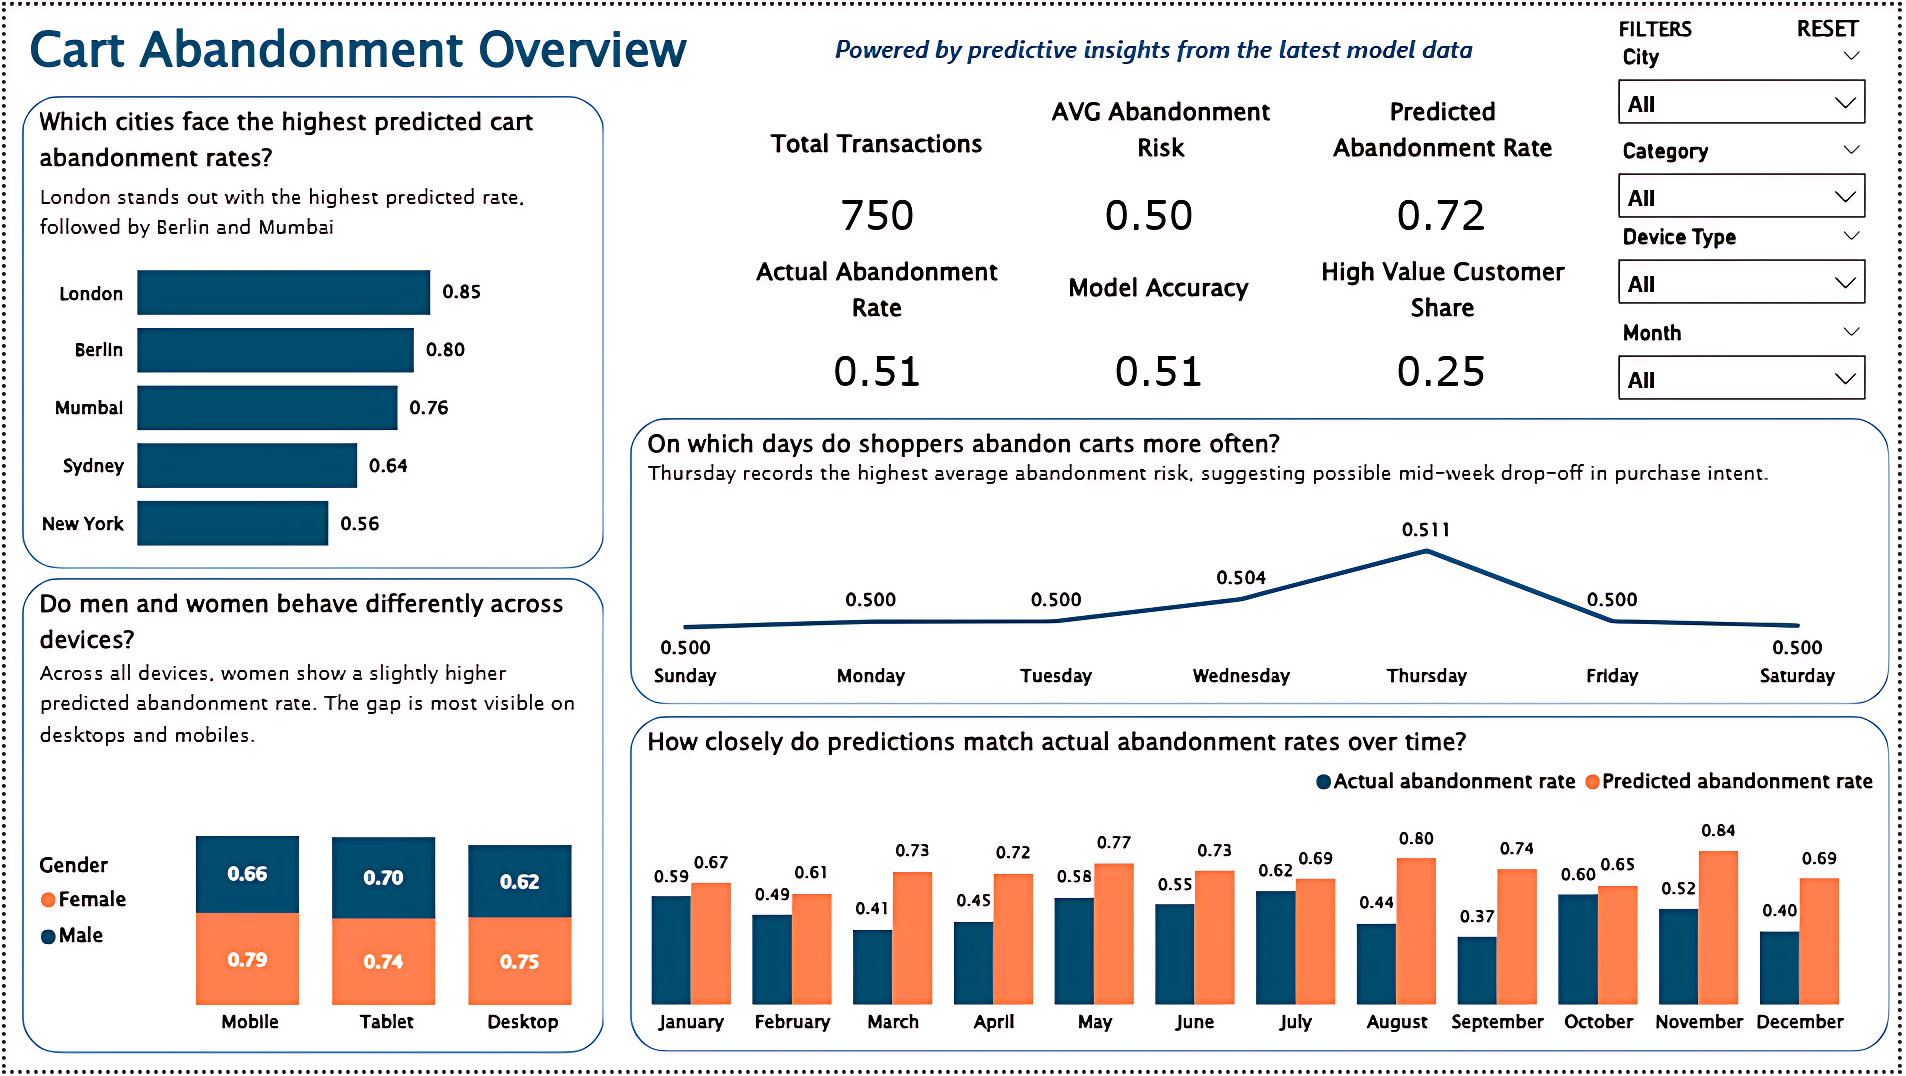

The dashboard page shown, as its layout file describes it:
{"tool":"powerbi","page":{"name":"EXECUTIVE SUMMARY","canvas":[1280,720],"ordinal":0},"visuals":[{"type":"shape","box":[421.6,480.8,852.3,227.5],"z":0},{"type":"shape","box":[421.6,279.1,852.3,194.1],"z":1000},{"type":"shape","box":[10.6,386.7,394.3,321.5],"z":2000},{"type":"shape","box":[10.6,60.7,394.3,320],"z":3000},{"type":"textbox","box":[10.6,0,471.7,60.7],"z":4000},{"type":"PBI_CV_7B952816_A48F_49B4_9E13_15E3BB2C0337","fields":{"Values":["_Measures.total_transactions"]},"box":[536.9,121.3,104.6,40.9],"z":5000},{"type":"PBI_CV_7B952816_A48F_49B4_9E13_15E3BB2C0337","fields":{"Values":["_Measures.avg_abandonment_risk"]},"box":[709.8,121.3,128.9,40.9],"z":6000},{"type":"PBI_CV_7B952816_A48F_49B4_9E13_15E3BB2C0337","fields":{"Values":["_Measures.predicted_abandonment_rate"]},"box":[906.9,122.8,128.9,37.9],"z":7000},{"type":"PBI_CV_7B952816_A48F_49B4_9E13_15E3BB2C0337","fields":{"Values":["_Measures.actual_abandonment_rate"]},"box":[529.3,227.5,121.3,40.9],"z":8000},{"type":"PBI_CV_7B952816_A48F_49B4_9E13_15E3BB2C0337","fields":{"Values":["_Measures.model_accuracy"]},"box":[715.8,227.5,128.9,40.9],"z":9000},{"type":"PBI_CV_7B952816_A48F_49B4_9E13_15E3BB2C0337","fields":{"Values":["_Measures.high_value_customer_share"]},"box":[906.9,227.5,128.9,40.9],"z":10000},{"type":"textbox","box":[494.4,75.8,191.1,45.5],"z":11000},{"type":"textbox","box":[685.5,54.6,191.1,66.7],"z":12000},{"type":"textbox","box":[876.6,54.6,191.1,66.7],"z":13000},{"type":"textbox","box":[494.4,162.3,191.1,65.2],"z":14000},{"type":"textbox","box":[696.1,172.9,168.3,44],"z":15000},{"type":"textbox","box":[876.6,162.3,191.1,66.7],"z":16000},{"type":"slicer","fields":{"Values":["model_predictions.city"]},"box":[1081.3,21.2,186.5,66.7],"z":17000},{"type":"slicer","fields":{"Values":["model_predictions.category"]},"box":[1081.3,84.9,186.5,71.3],"z":18000},{"type":"slicer","fields":{"Values":["model_predictions.device_type"]},"box":[1081.3,144.1,186.5,71.3],"z":19000},{"type":"textbox","box":[1081.3,0,69.8,33.4],"z":20000},{"type":"actionButton","box":[1199.6,0,68.2,30.3],"z":21000},{"type":"clusteredBarChart","fields":{"Y":["_Measures.predicted_abandonment_rate"],"Category":["model_predictions.city"]},"box":[18.2,150.1,377.6,236.6],"z":23000},{"type":"columnChart","fields":{"Series":["model_predictions.gender"],"Category":["model_predictions.device_type"],"Y":["_Measures.predicted_abandonment_rate"]},"box":[18.2,505,411,203.2],"z":24000},{"type":"lineChart","fields":{"Y":["_Measures.avg_abandonment_risk"],"Category":["model_predictions.day_of_week_name"]},"box":[404.9,333.6,862.9,139.5],"z":25000},{"type":"clusteredColumnChart","fields":{"Y":["_Measures.actual_abandonment_rate","_Measures.predicted_abandonment_rate"],"Category":["model_predictions.month_name"]},"box":[404.9,505,869,203.2],"z":26000},{"type":"textbox","box":[18.2,60.7,377.6,71.3],"z":27000},{"type":"textbox","box":[18.2,113.7,377.6,59.1],"z":28000},{"type":"textbox","box":[18.2,386.7,377.6,60.7],"z":29000},{"type":"textbox","box":[18.2,435.3,377.6,74.3],"z":30000},{"type":"textbox","box":[429.2,279.1,838.7,37.9],"z":31000},{"type":"textbox","box":[429.2,300.3,805.3,33.4],"z":32000},{"type":"textbox","box":[429.2,480.8,838.7,48.5],"z":32001},{"type":"slicer","fields":{"Values":["model_predictions.month_name"]},"box":[1081.3,207.8,186.5,71.3],"z":32002},{"type":"textbox","box":[518.7,13.6,517.2,47],"z":32003}]}

Visuals, with their boxes in screenshot pixels (x1, y1, x2, y2), scaled from the page's 1280x720 canvas onto the 1906x1076 screenshot:
shape: [x1=628, y1=719, x2=1897, y2=1059]
shape: [x1=628, y1=417, x2=1897, y2=707]
shape: [x1=16, y1=578, x2=603, y2=1058]
shape: [x1=16, y1=91, x2=603, y2=569]
textbox: [x1=16, y1=0, x2=718, y2=91]
PBI_CV_7B952816_A48F_49B4_9E13_15E3BB2C0337 - _Measures.total_transactions: [x1=799, y1=181, x2=955, y2=242]
PBI_CV_7B952816_A48F_49B4_9E13_15E3BB2C0337 - _Measures.avg_abandonment_risk: [x1=1057, y1=181, x2=1249, y2=242]
PBI_CV_7B952816_A48F_49B4_9E13_15E3BB2C0337 - _Measures.predicted_abandonment_rate: [x1=1350, y1=184, x2=1542, y2=240]
PBI_CV_7B952816_A48F_49B4_9E13_15E3BB2C0337 - _Measures.actual_abandonment_rate: [x1=788, y1=340, x2=969, y2=401]
PBI_CV_7B952816_A48F_49B4_9E13_15E3BB2C0337 - _Measures.model_accuracy: [x1=1066, y1=340, x2=1258, y2=401]
PBI_CV_7B952816_A48F_49B4_9E13_15E3BB2C0337 - _Measures.high_value_customer_share: [x1=1350, y1=340, x2=1542, y2=401]
textbox: [x1=736, y1=113, x2=1021, y2=181]
textbox: [x1=1021, y1=82, x2=1305, y2=181]
textbox: [x1=1305, y1=82, x2=1590, y2=181]
textbox: [x1=736, y1=243, x2=1021, y2=340]
textbox: [x1=1037, y1=258, x2=1287, y2=324]
textbox: [x1=1305, y1=243, x2=1590, y2=342]
slicer - model_predictions.city: [x1=1610, y1=32, x2=1888, y2=131]
slicer - model_predictions.category: [x1=1610, y1=127, x2=1888, y2=233]
slicer - model_predictions.device_type: [x1=1610, y1=215, x2=1888, y2=322]
textbox: [x1=1610, y1=0, x2=1714, y2=50]
actionButton: [x1=1786, y1=0, x2=1888, y2=45]
clusteredBarChart - _Measures.predicted_abandonment_rate x model_predictions.city: [x1=27, y1=224, x2=589, y2=578]
columnChart - model_predictions.gender x model_predictions.device_type: [x1=27, y1=755, x2=639, y2=1058]
lineChart - _Measures.avg_abandonment_risk x model_predictions.day_of_week_name: [x1=603, y1=499, x2=1888, y2=707]
clusteredColumnChart - _Measures.actual_abandonment_rate x _Measures.predicted_abandonment_rate: [x1=603, y1=755, x2=1897, y2=1058]
textbox: [x1=27, y1=91, x2=589, y2=197]
textbox: [x1=27, y1=170, x2=589, y2=258]
textbox: [x1=27, y1=578, x2=589, y2=669]
textbox: [x1=27, y1=651, x2=589, y2=762]
textbox: [x1=639, y1=417, x2=1888, y2=474]
textbox: [x1=639, y1=449, x2=1838, y2=499]
textbox: [x1=639, y1=719, x2=1888, y2=791]
slicer - model_predictions.month_name: [x1=1610, y1=311, x2=1888, y2=417]
textbox: [x1=772, y1=20, x2=1543, y2=91]
